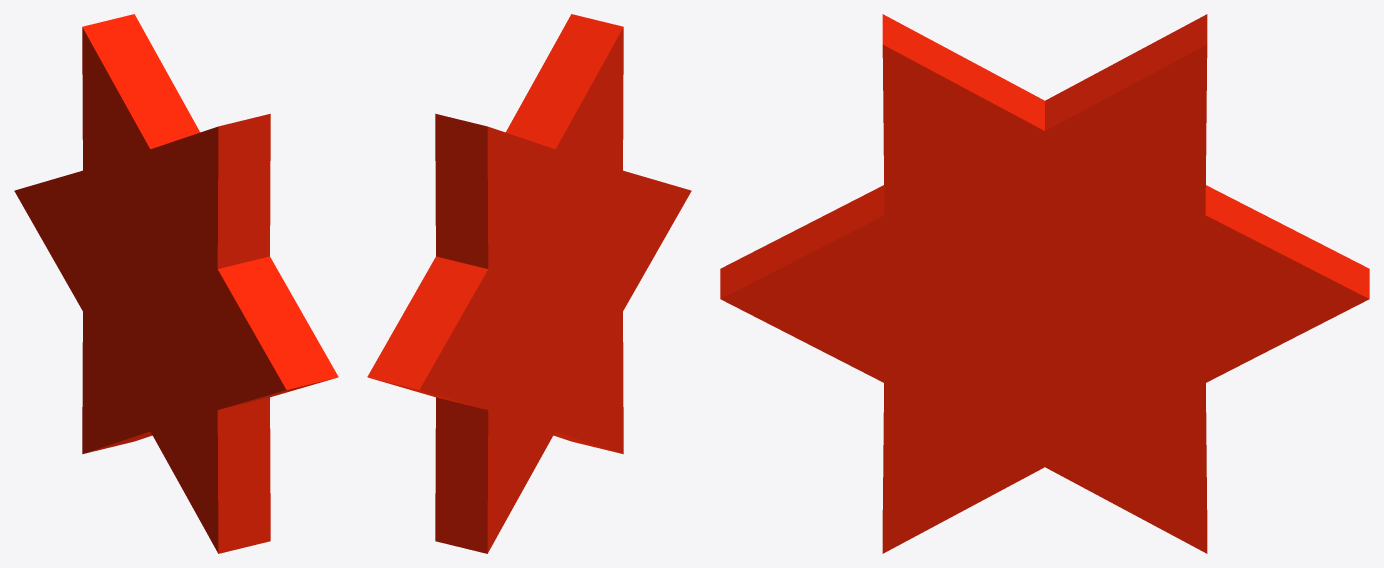
Rendered from GoalStar.FBX.
3 renders of one model, left to right at view 1: azimuth 30°, elevation 25°; view 2: azimuth 150°, elevation 25°; view 3: azimuth 270°, elevation 25°, orthographic. The views are drawn at different scales.
Parts seen in each view (by area): view 1: Star001; view 2: Star001; view 3: Star001.
Part boxes in pixels (bbox=[...]): Star001: bbox=[14, 14, 338, 553]; Star001: bbox=[367, 14, 691, 553]; Star001: bbox=[720, 14, 1369, 553].
Bounding box in the file's own units: 40 × 312 × 361.
